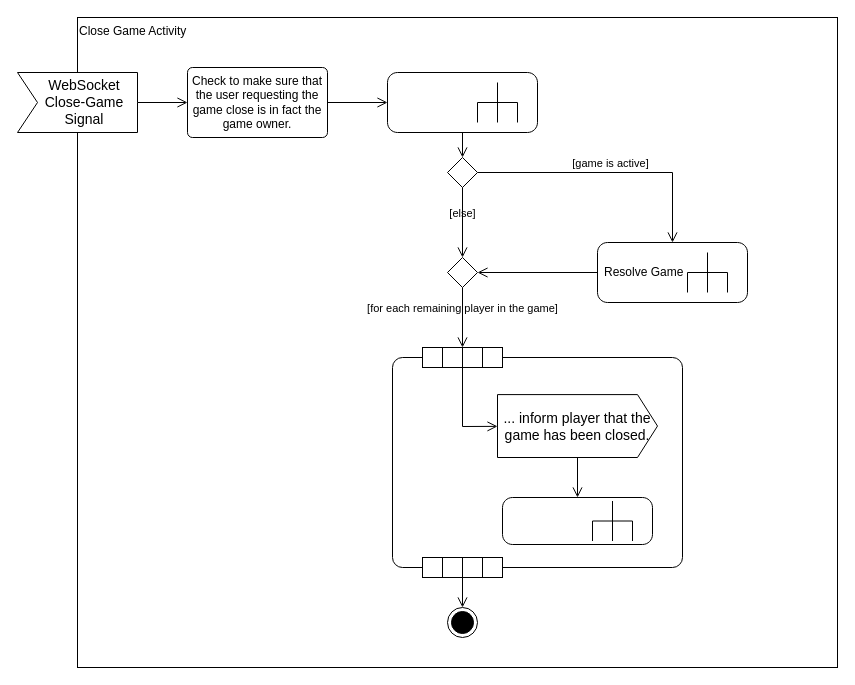
This 855x685 diagram has some shape labels left out. The shapes that lost their labels are listed below. From the top down, each one's box as (x1, y1, x2, y2) in pixels, then its label:
(386, 72, 538, 132): Leave Game (for the owner)
(502, 496, 652, 544): Leave Game
